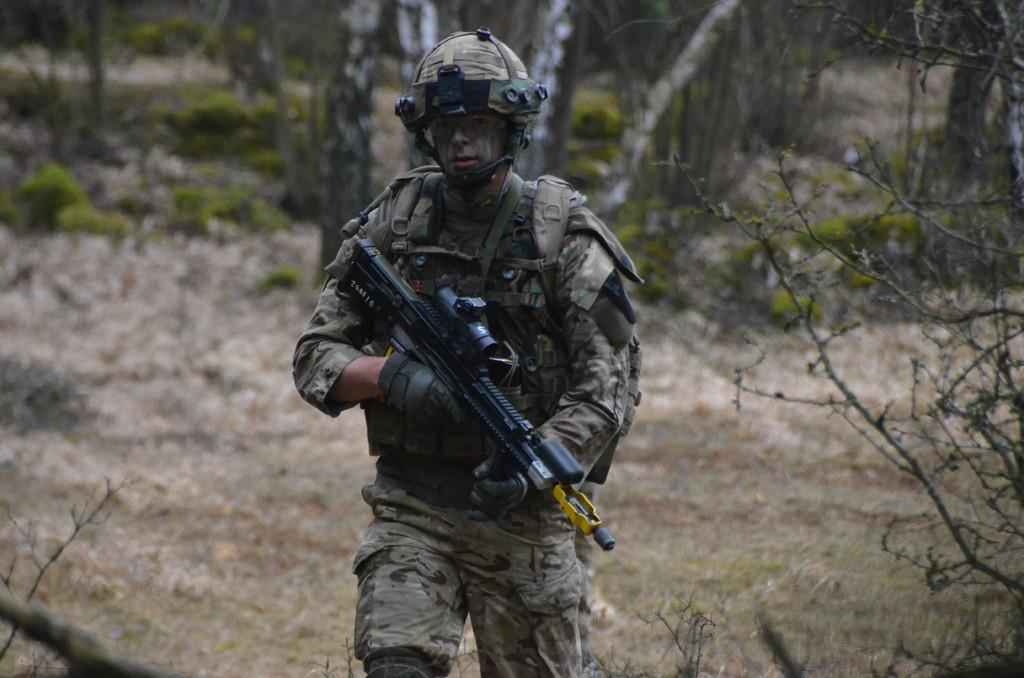Shotgun: (335, 234, 615, 551)
